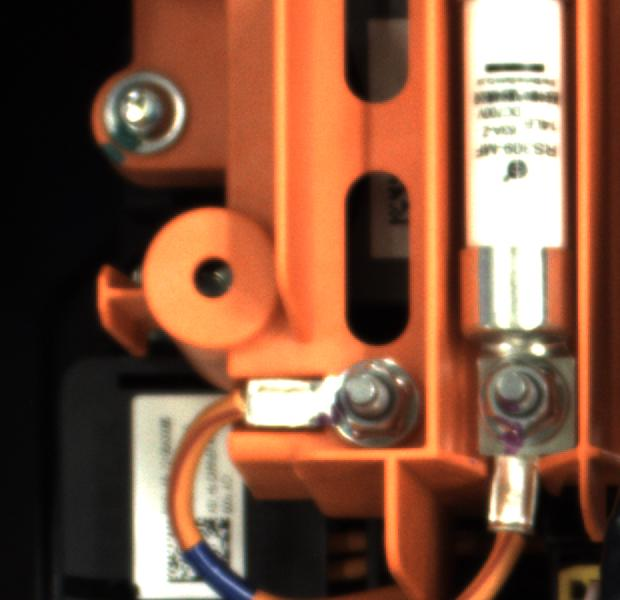screw_m: (94, 68, 202, 168)
screw_s: (321, 356, 428, 447), (475, 358, 569, 443)
